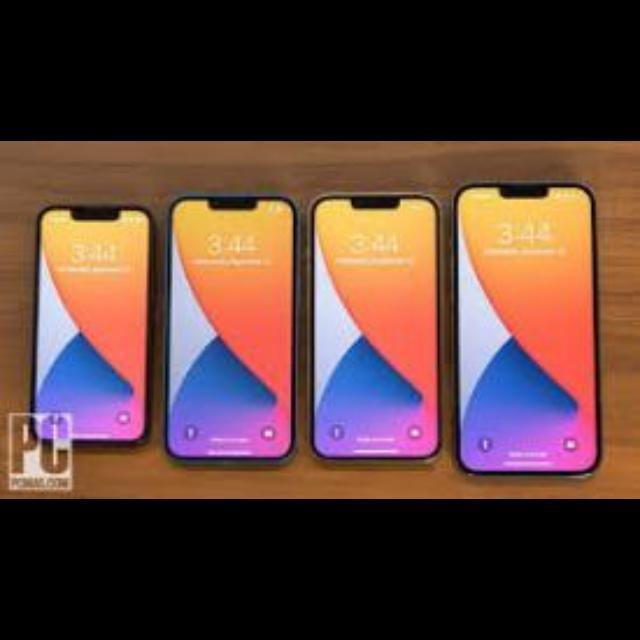PhoneUse: (455, 186, 601, 486), (166, 193, 300, 467), (310, 193, 440, 467), (26, 206, 146, 444)
